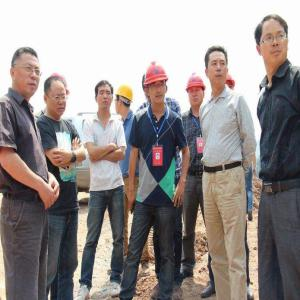none: (253, 13, 292, 75), (10, 45, 42, 100), (204, 43, 231, 90), (44, 76, 69, 120), (95, 80, 115, 114)
red: (144, 59, 169, 106), (186, 72, 207, 109)
yellow: (114, 84, 135, 119)
